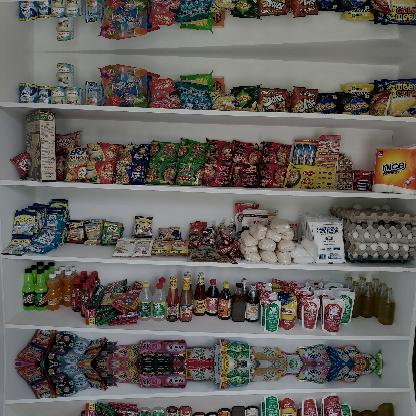Koko-Krunch: (24, 107, 58, 182)
